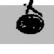not correct: (12, 0, 48, 38)
